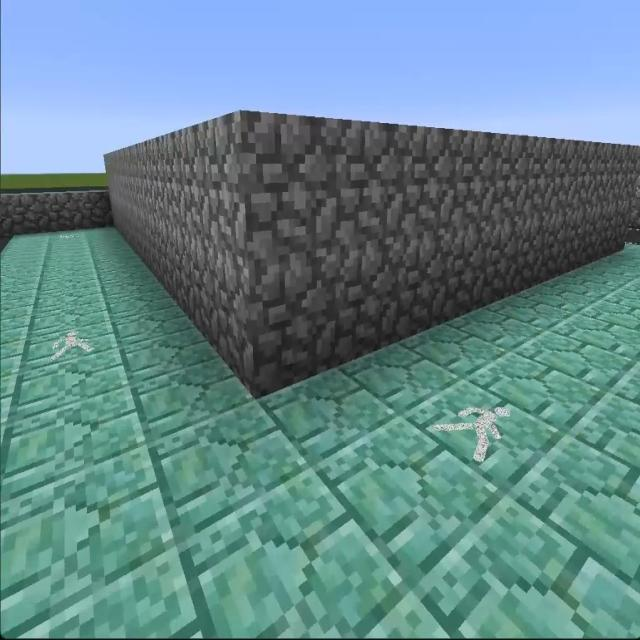sidewalk: (3, 224, 639, 631)
